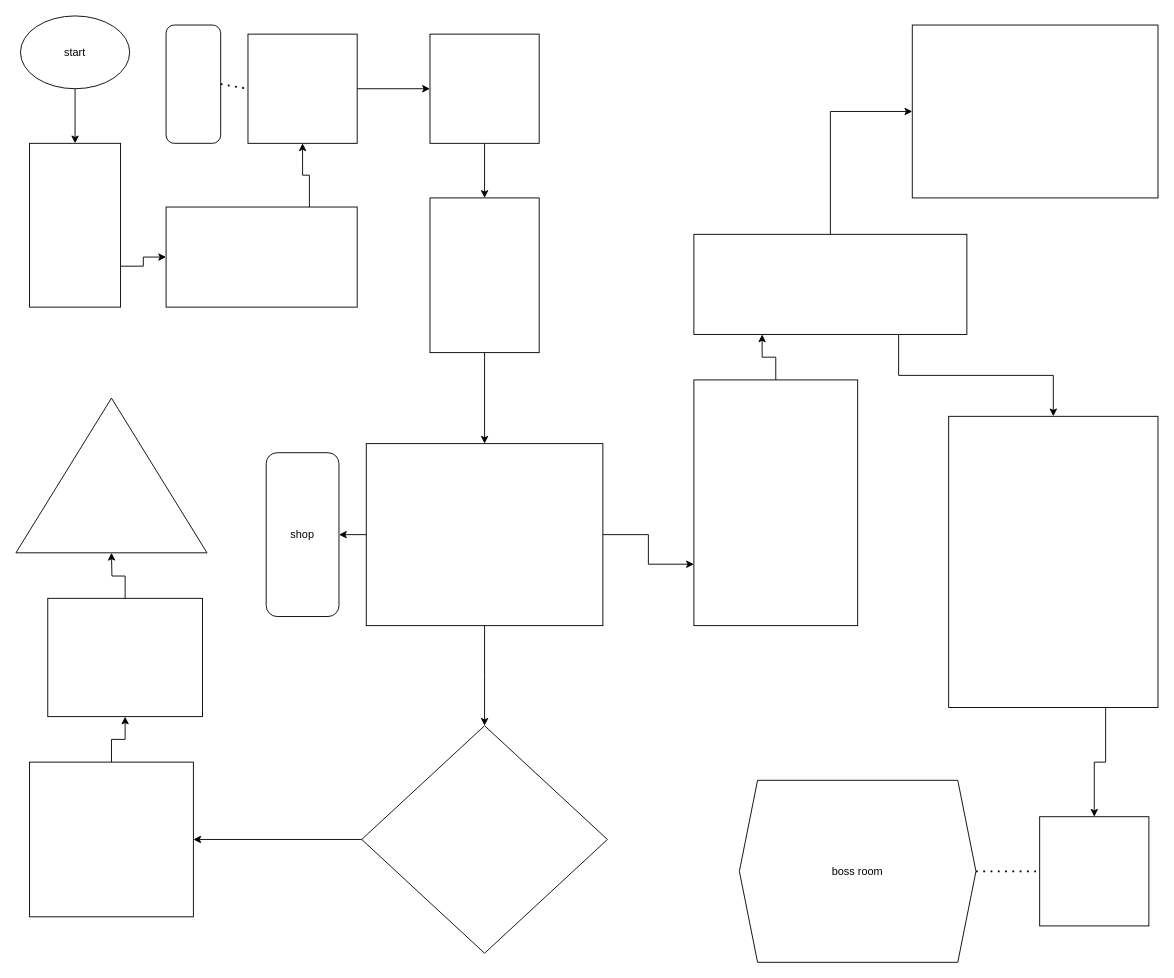
Image size: 1174x978. Some labels were removed from this diagram. The centre of each missing label's shape, as x and y in pixels:
"flower" goes at [75,224].
"keywatcher" goes at [484,839].
